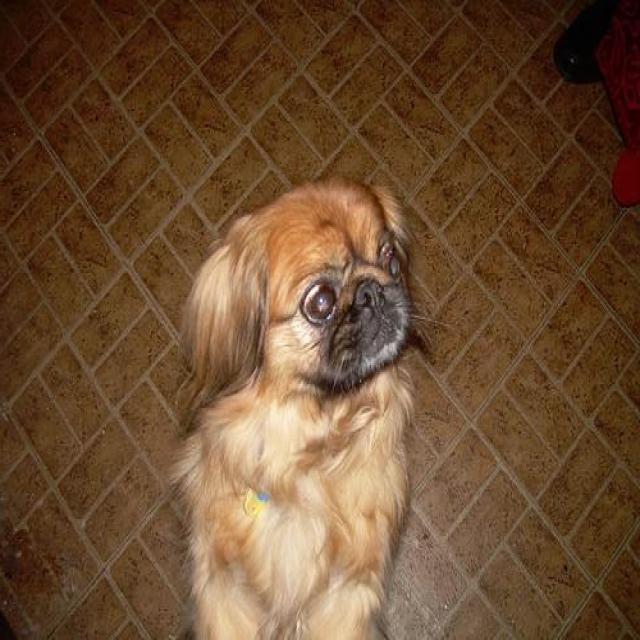pekinese: (170, 188, 424, 638)
